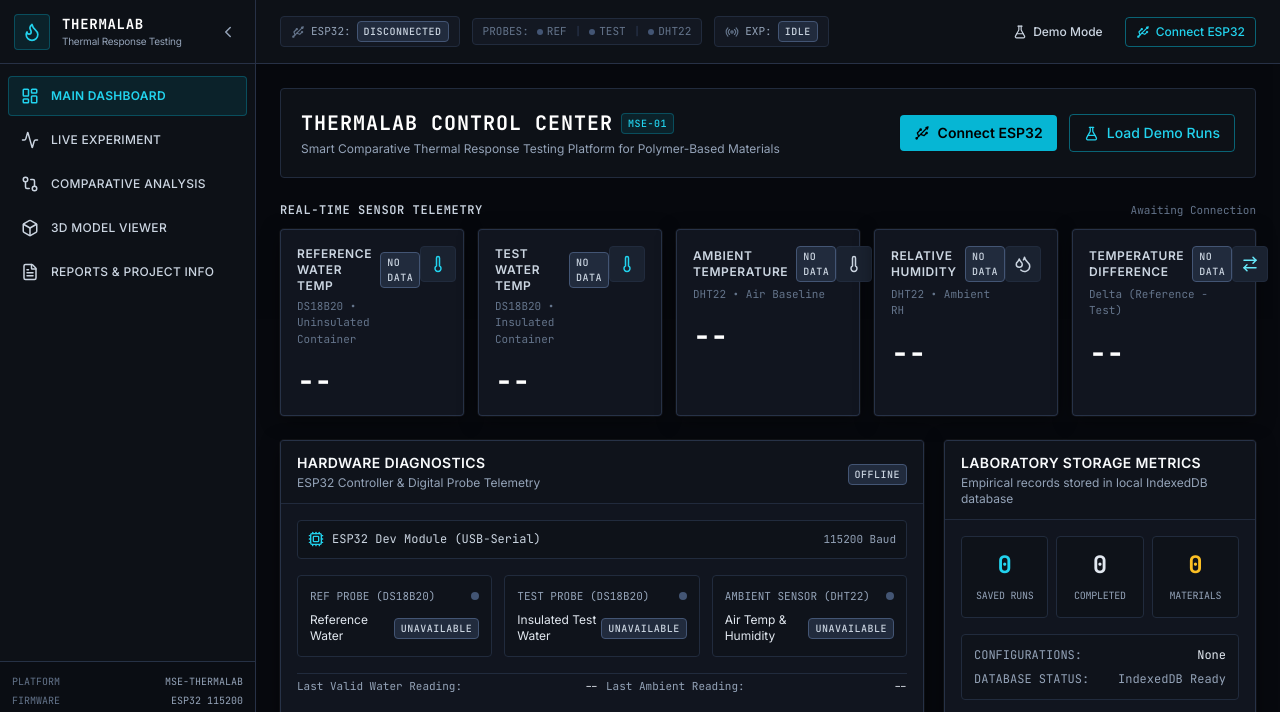
Test: THERMALAB User Interface & Navigation › navigates to Live Experiment dashboard via sidebar link
Step 1. Click the link "LIVE EXPERIMENT" → (91, 140), box [21,131,161,149]
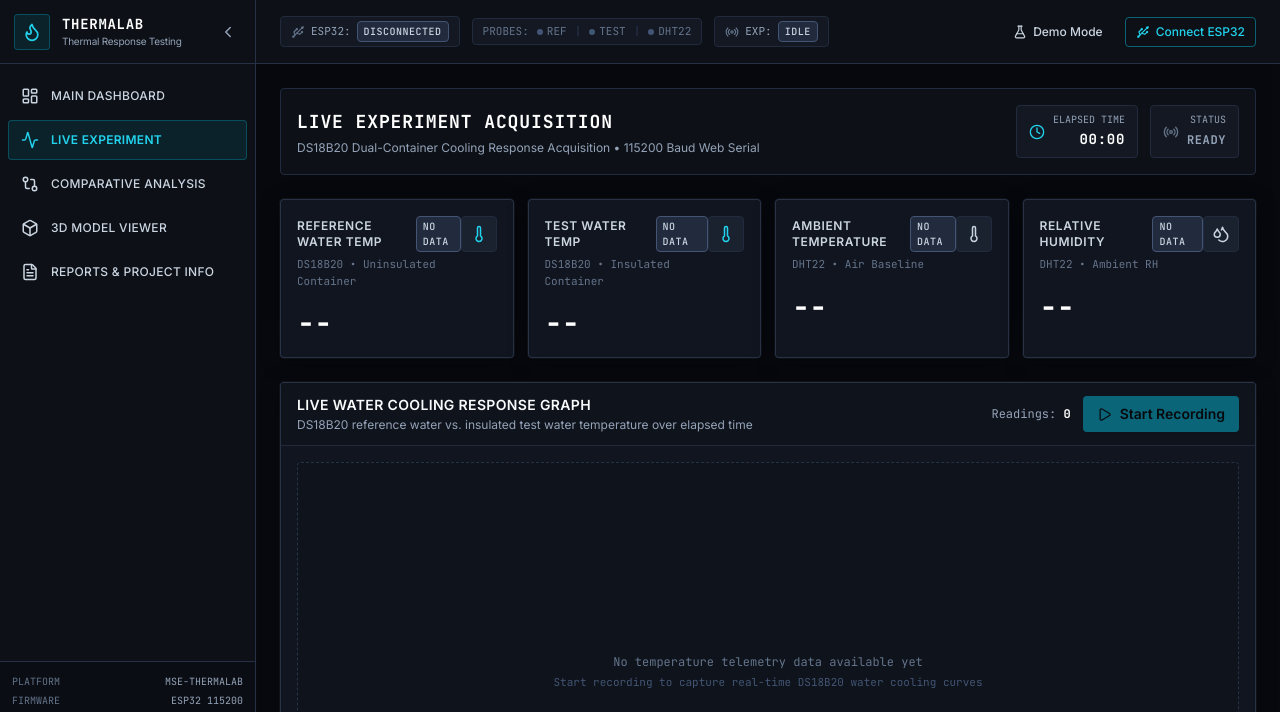
Check: the heading "Live Experiment Acquisition" is shown, box [297,108,613,136]
